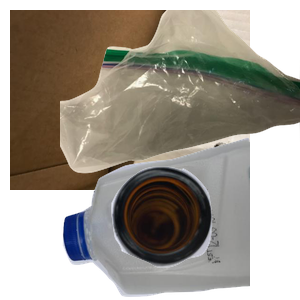cardboard: (10, 10, 250, 190)
glass: (109, 164, 300, 300)
plastic: (60, 135, 300, 300)
trash: (60, 10, 300, 176)
